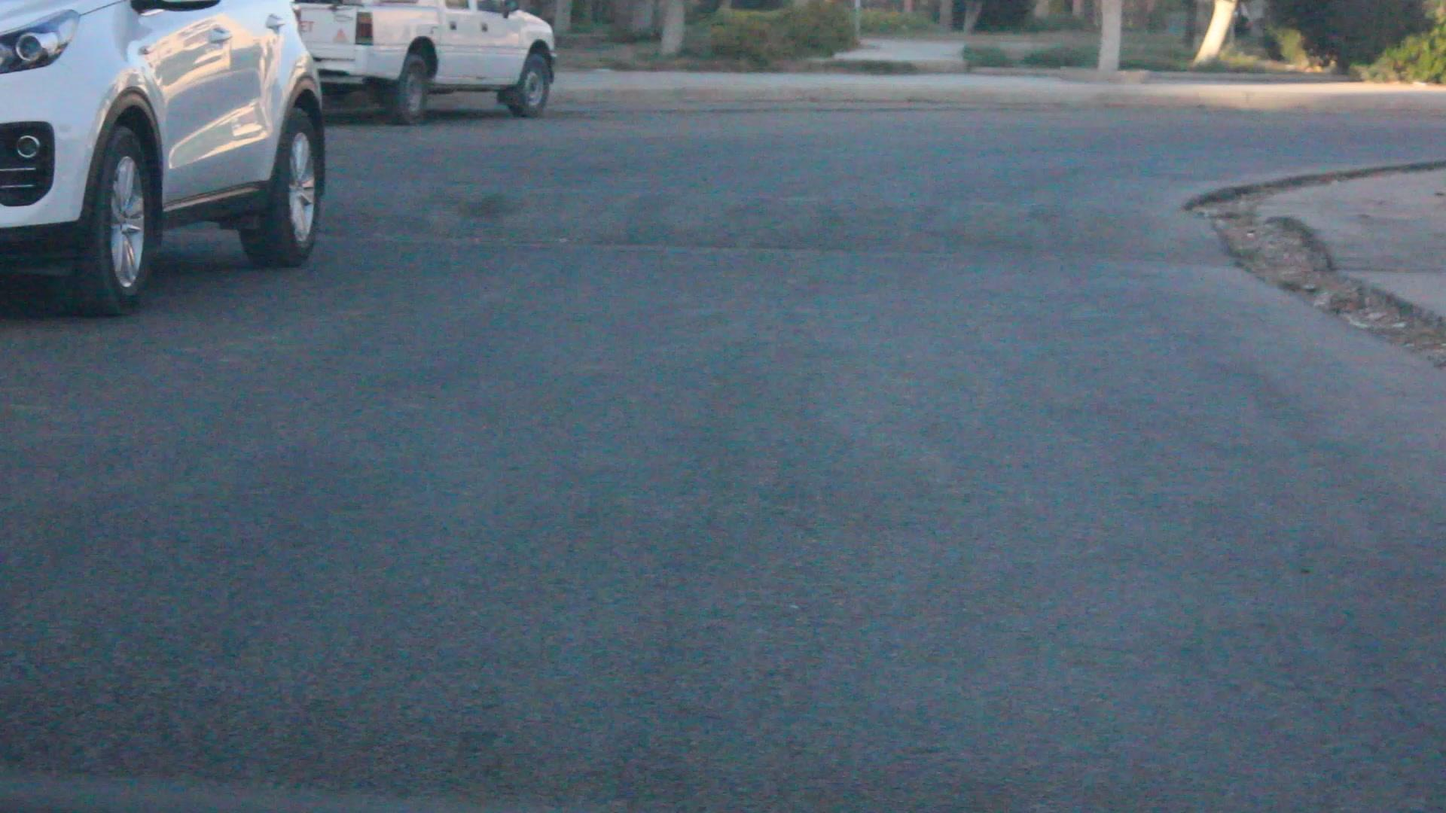Bump: (326, 171, 1228, 279)
